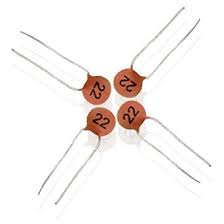ceramic capacitor: (50, 56, 112, 106), (111, 48, 164, 100), (56, 107, 117, 147), (114, 99, 153, 156)
